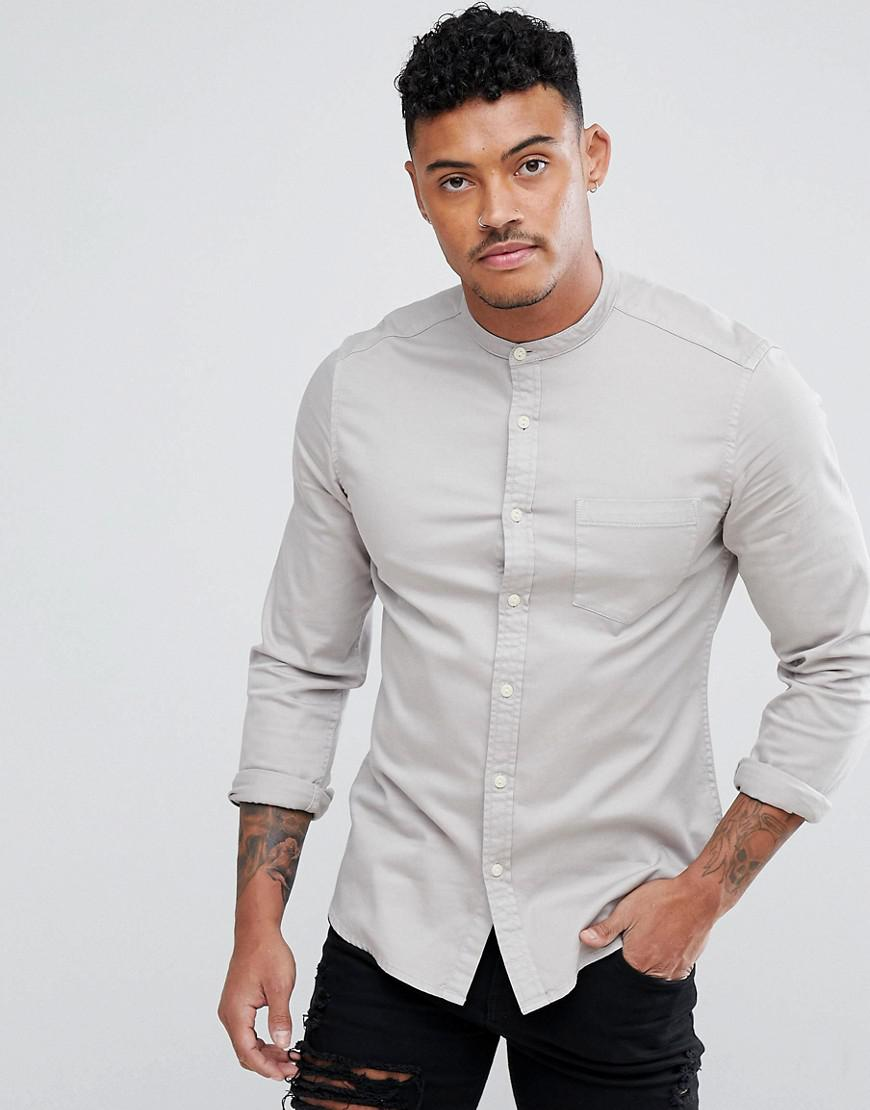teeshirt: (215, 279, 868, 940)
